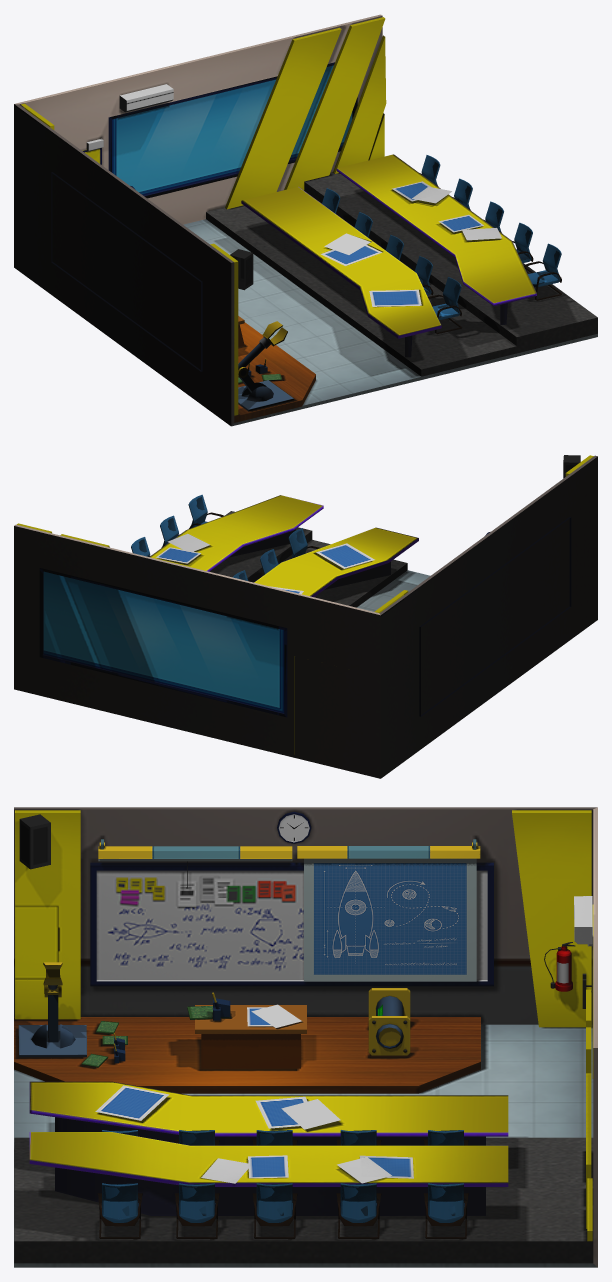
The model's file is Tx_Interior_Education_Engineering_20170629.fbx.
3 views of the same model, one above another, from view 1: azimuth 30°, elevation 25°; view 2: azimuth 150°, elevation 25°; view 3: azimuth 270°, elevation 25° (orthographic). The views are drawn at different scales.
Visible parts, largest first — view 1: group1_bake, group2_bake; view 2: group1_bake, group2_bake; view 3: group1_bake, group2_bake.
Part boxes in pixels (x1,y1,x2,y2): group1_bake: (14,14,597,426); group2_bake: (86,84,561,411); group1_bake: (14,455,597,778); group2_bake: (131,455,580,594); group1_bake: (14,807,597,1267); group2_bake: (18,811,592,1239).
Bounding box in the file's own units: 52.71 × 22.3 × 53.69.
2 materials, 2 textured.
